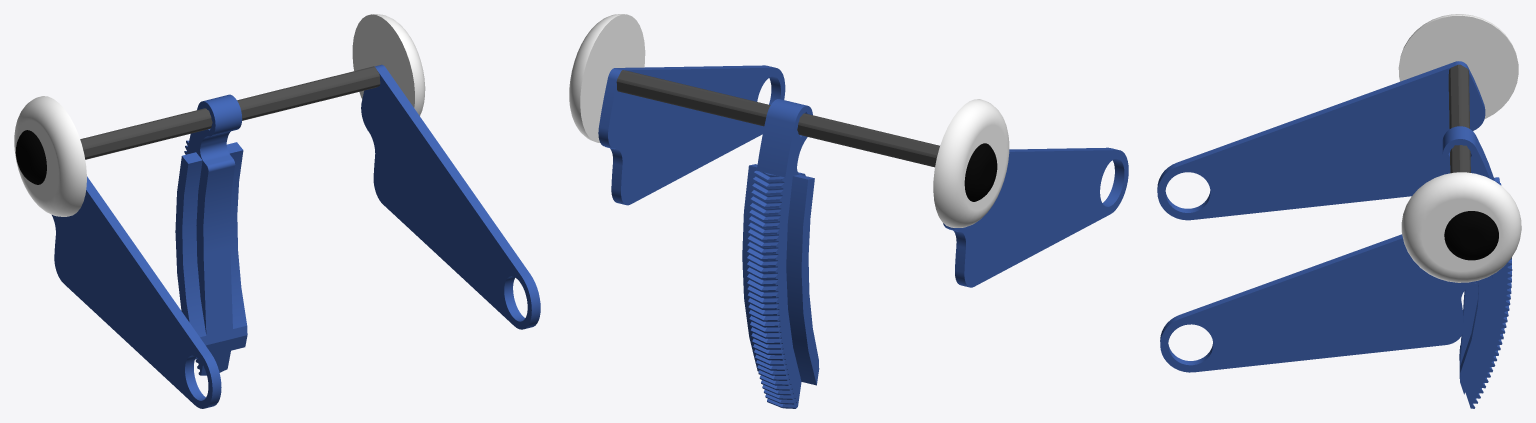
The picture shows the model from 3 angles, left to right: view 1: azimuth 30°, elevation 25°; view 2: azimuth 150°, elevation 25°; view 3: azimuth 270°, elevation 25°; orthographic projection. The views are drawn at different scales.
Parts seen in each view (by area): view 1: 157-26-ST-P-19 (×2), 157-26-ST-P-3, Googly Eye (×2), 157-26-ST-P-20; view 2: 157-26-ST-P-19 (×2), 157-26-ST-P-3, Googly Eye (×2), 157-26-ST-P-20; view 3: 157-26-ST-P-19 (×2), Googly Eye (×2), 157-26-ST-P-3, 157-26-ST-P-20.
Part boxes in pixels (left/top/right/bottom): 157-26-ST-P-19 (×2): left=52, top=64, right=540, bottom=408; 157-26-ST-P-3: left=175, top=94, right=247, bottom=375; Googly Eye (×2): left=14, top=14, right=425, bottom=216; 157-26-ST-P-20: left=80, top=66, right=380, bottom=159; 157-26-ST-P-19 (×2): left=598, top=65, right=1128, bottom=287; 157-26-ST-P-3: left=742, top=99, right=819, bottom=408; Googly Eye (×2): left=569, top=14, right=1009, bottom=227; 157-26-ST-P-20: left=616, top=70, right=939, bottom=167; 157-26-ST-P-19 (×2): left=1157, top=61, right=1485, bottom=372; Googly Eye (×2): left=1398, top=14, right=1521, bottom=282; 157-26-ST-P-3: left=1442, top=126, right=1512, bottom=408; 157-26-ST-P-20: left=1448, top=64, right=1470, bottom=173.
Bounding box in the file's own units: 0.2728 × 0.2179 × 0.2308.
